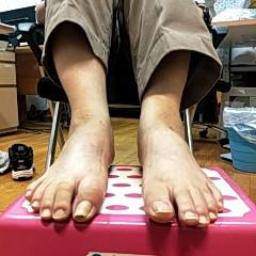Front View -Both Feet-: (11, 88, 245, 246)
